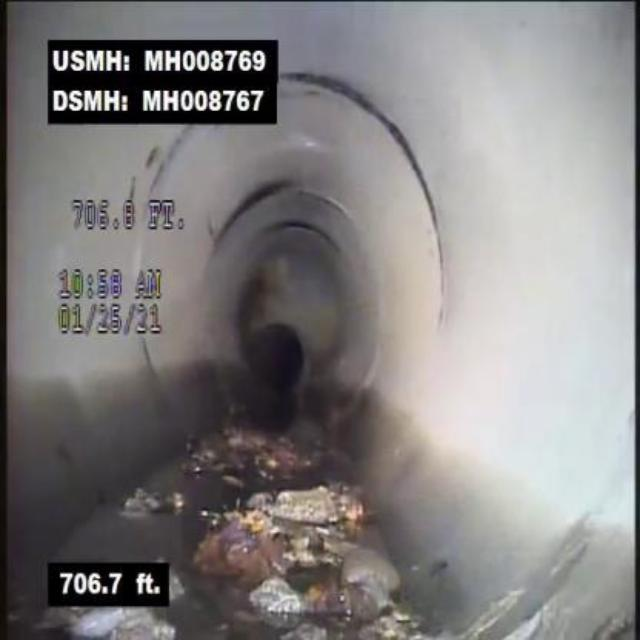Debris: (218, 468, 409, 635)
